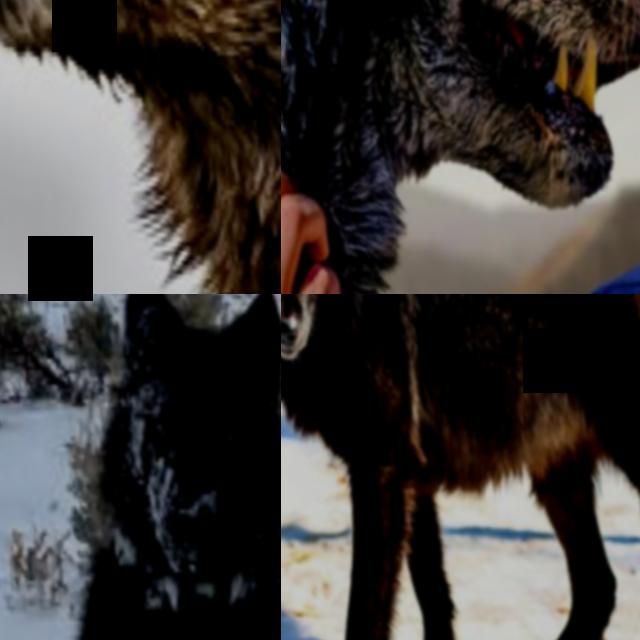wolf: (281, 294, 640, 640), (281, 0, 640, 294), (0, 294, 281, 640), (0, 0, 281, 294)
